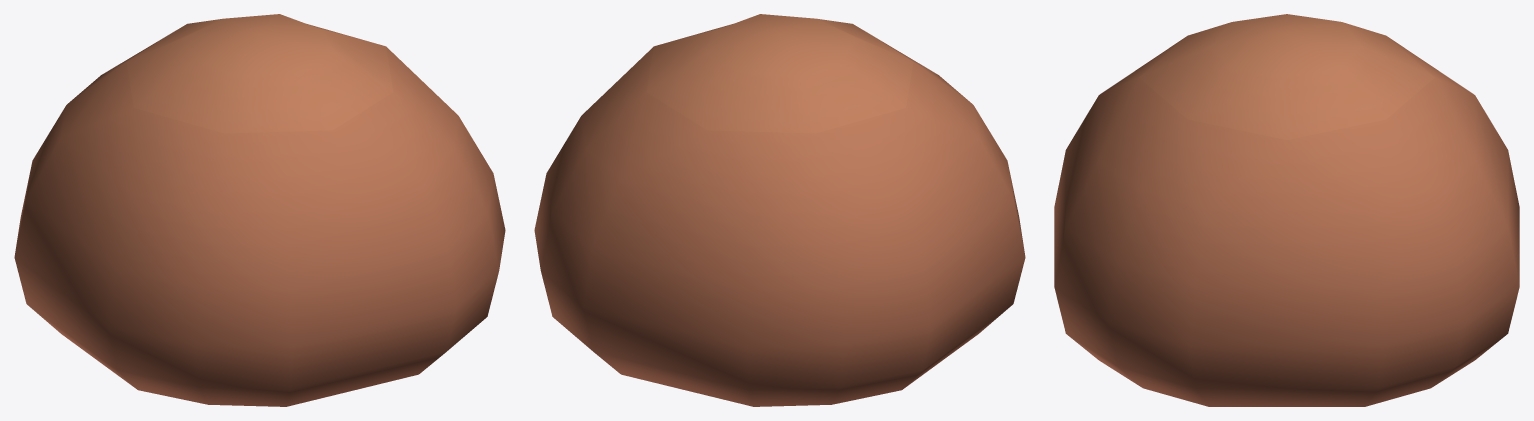
Rendered from Rock_5_D_Color8.fbx.
The picture shows the model from 3 angles, left to right: view 1: azimuth 30°, elevation 25°; view 2: azimuth 150°, elevation 25°; view 3: azimuth 270°, elevation 25°; orthographic projection.
Parts seen in each view (by area): view 1: Rock_5_D_Color8; view 2: Rock_5_D_Color8; view 3: Rock_5_D_Color8.
Boxes of the visible parts, left/top/right/bottom form: Rock_5_D_Color8: left=14, top=14, right=505, bottom=406; Rock_5_D_Color8: left=534, top=14, right=1025, bottom=406; Rock_5_D_Color8: left=1054, top=14, right=1519, bottom=406.
Size of the model in its own units: 1.24 by 0.9237 by 1.24.
